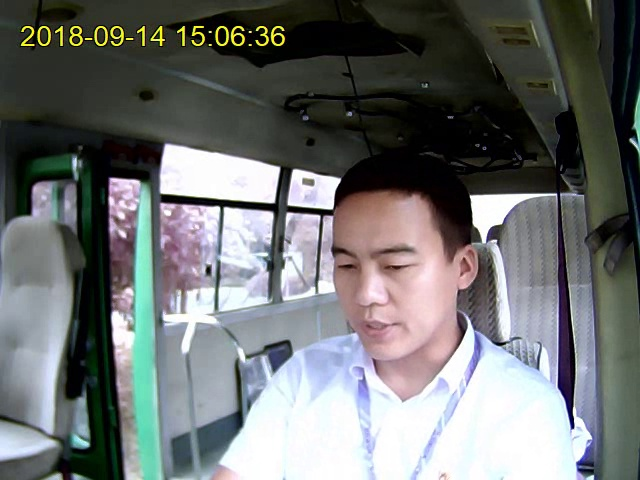closed_mouth: (360, 318, 402, 337)
